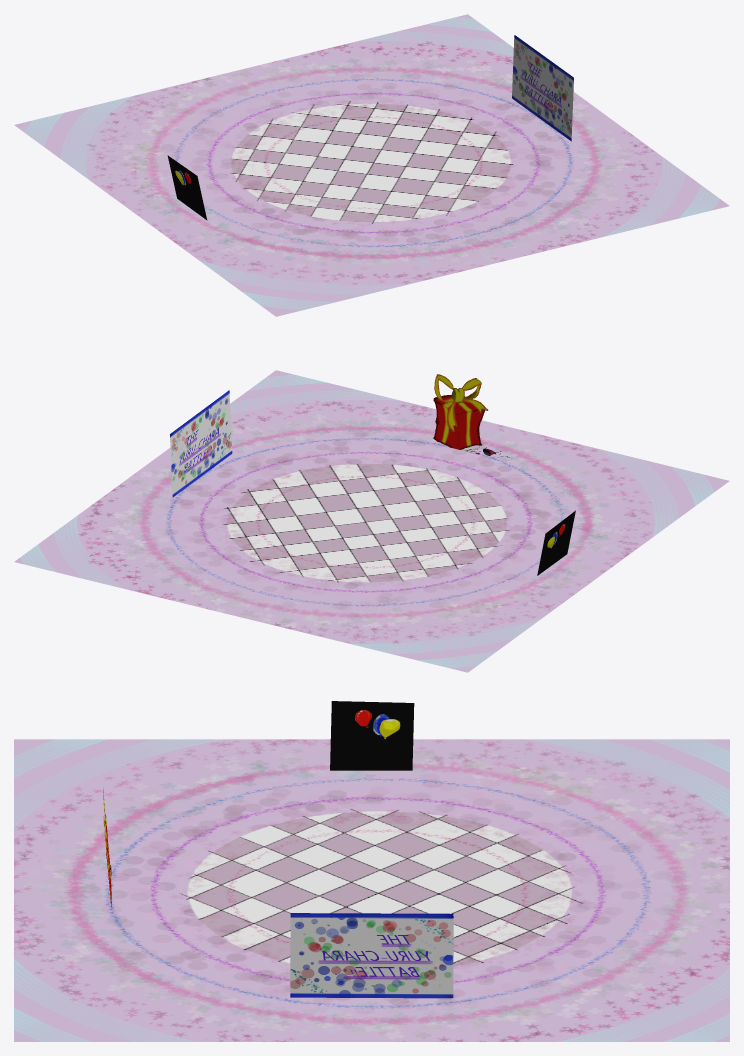
The model's file is stage02_2.fbx.
3 views of the same model, one above another, from view 1: azimuth 30°, elevation 25°; view 2: azimuth 150°, elevation 25°; view 3: azimuth 270°, elevation 25° (orthographic). The views are drawn at different scales.
Visible parts, largest first — view 1: pPlane1, pPlane2, pPlane4; view 2: pPlane1, pPlane2, pPlane3, pPlane4; view 3: pPlane1, pPlane2, pPlane4.
Boxes of the visible parts, <box> form: pPlane1: <box>14,14,729,316</box>; pPlane2: <box>512,35,573,141</box>; pPlane4: <box>167,155,207,220</box>; pPlane1: <box>14,370,729,672</box>; pPlane2: <box>170,390,232,497</box>; pPlane3: <box>433,374,509,457</box>; pPlane4: <box>537,510,575,575</box>; pPlane1: <box>14,739,729,1041</box>; pPlane2: <box>290,913,453,998</box>; pPlane4: <box>330,701,414,770</box>.
Bounding box in the file's own units: 8.68 × 2.07 × 8.68.
